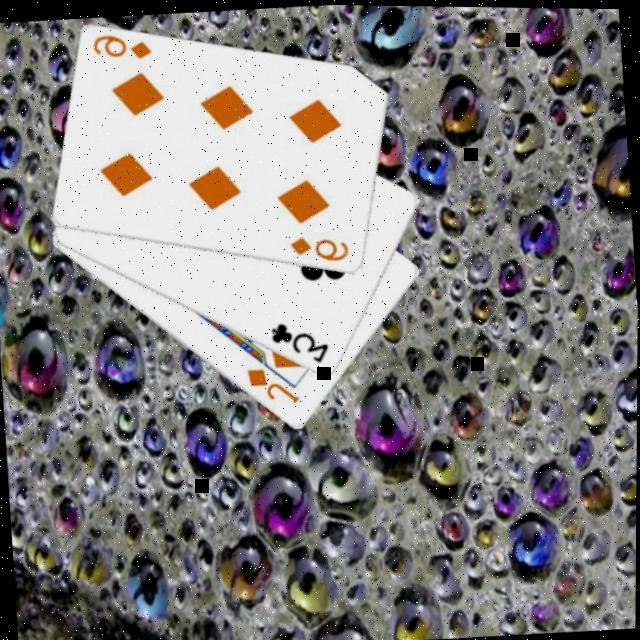3C: (265, 316, 332, 369)
6D: (284, 230, 350, 267), (86, 29, 152, 66)
JD: (242, 362, 302, 411)
